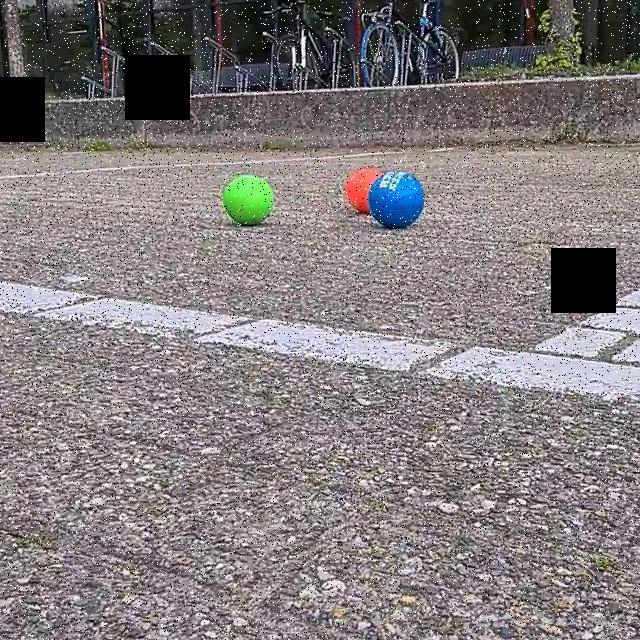ball: (366, 165, 428, 229), (222, 174, 276, 226)
